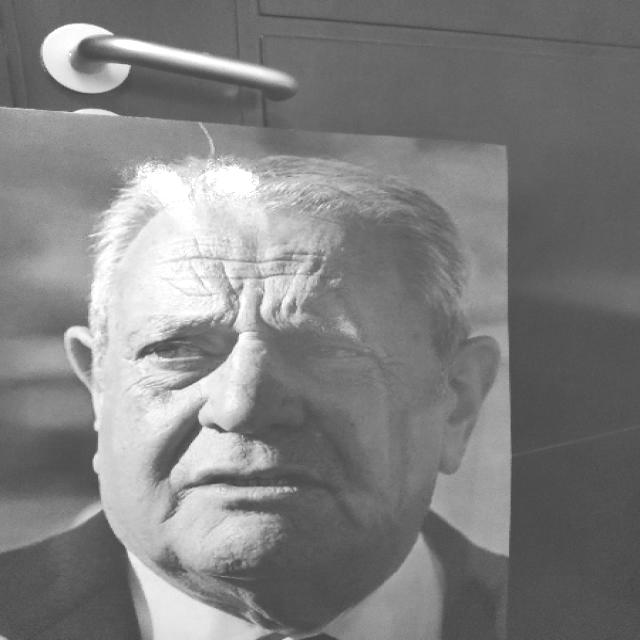fake: (0, 100, 536, 640)
